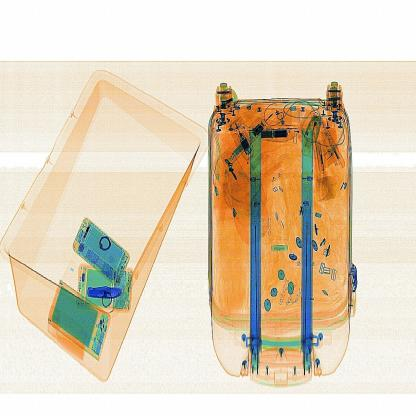knife: (85, 277, 129, 300)
